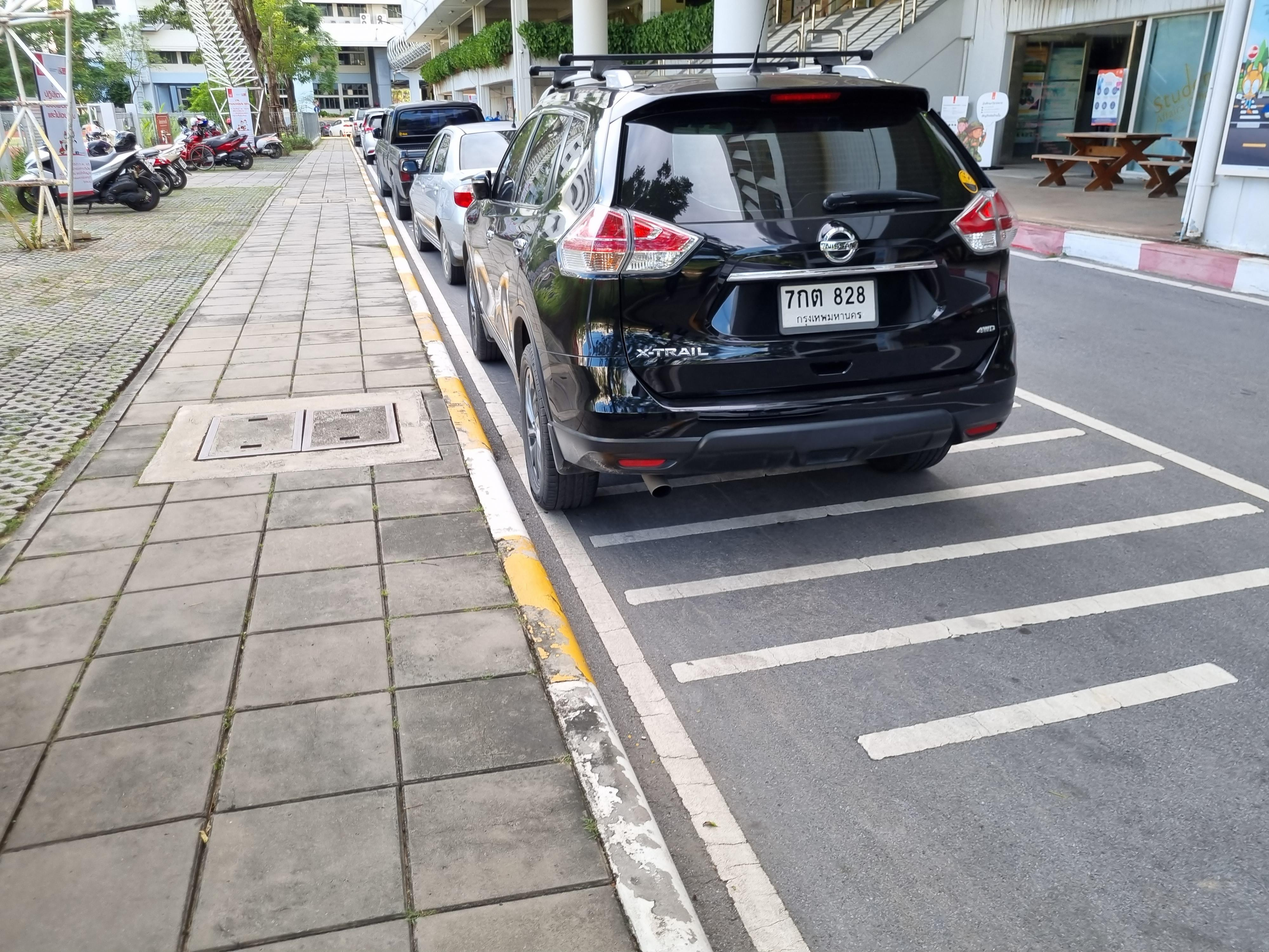license-plate: (773, 273, 879, 341)
